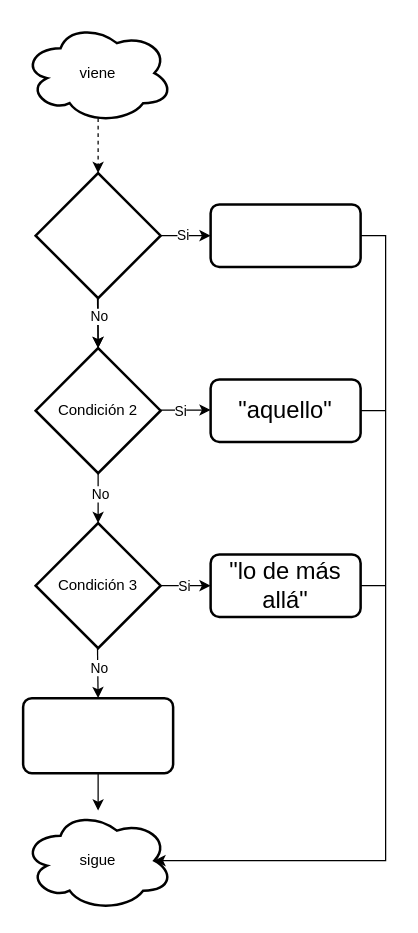
This 418x933 diagram has some shape labels left out. Here are the shapes that lost their labels. From the top down, the centre of each, then its label:
point 97,235: Condición 1
point 285,235: "esto"
point 97,735: "oops"
